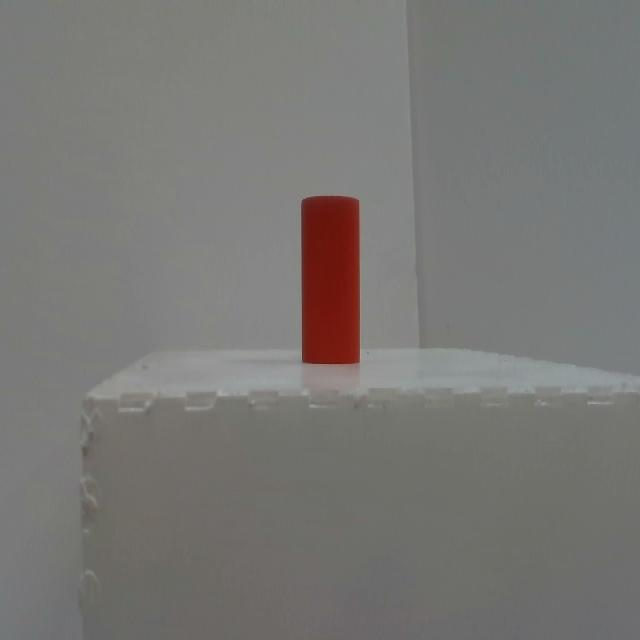red_cylinder: (300, 194, 360, 365)
